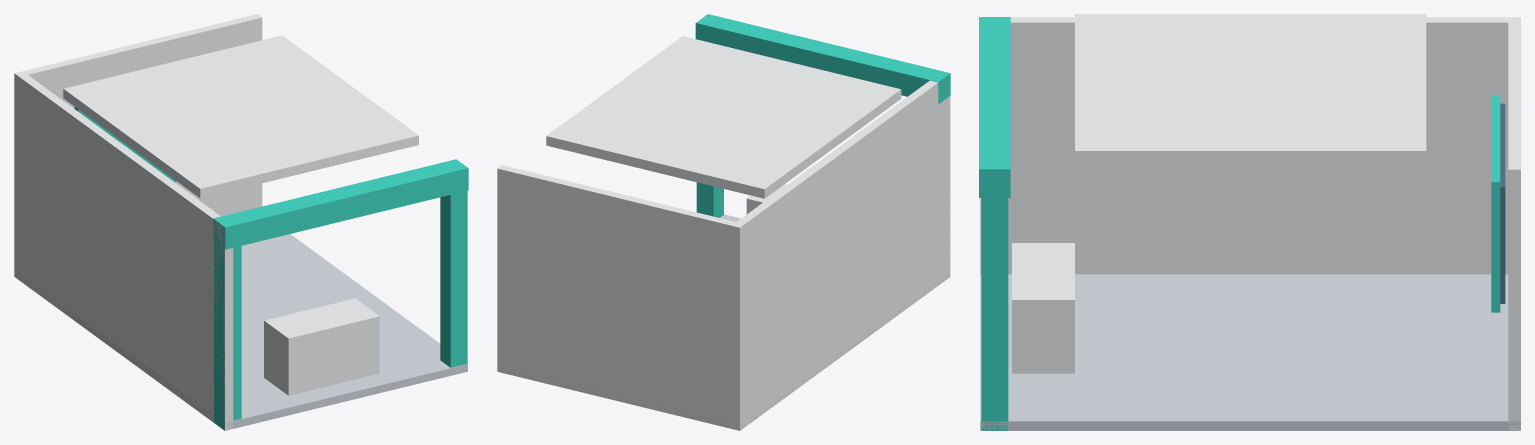
3 views of the same model, side by side, from view 1: azimuth 30°, elevation 25°; view 2: azimuth 150°, elevation 25°; view 3: azimuth 270°, elevation 25° (orthographic). The views are drawn at different scales.
Parts seen in each view (by area): view 1: Exhibition Booth Concept; view 2: Exhibition Booth Concept; view 3: Exhibition Booth Concept.
Part boxes in pixels (x1,y1,x2,y2): Exhibition Booth Concept: (14, 14, 468, 430); Exhibition Booth Concept: (497, 14, 950, 430); Exhibition Booth Concept: (979, 14, 1520, 430).
Size of the model in its own units: 4 by 3.34 by 6.02.
